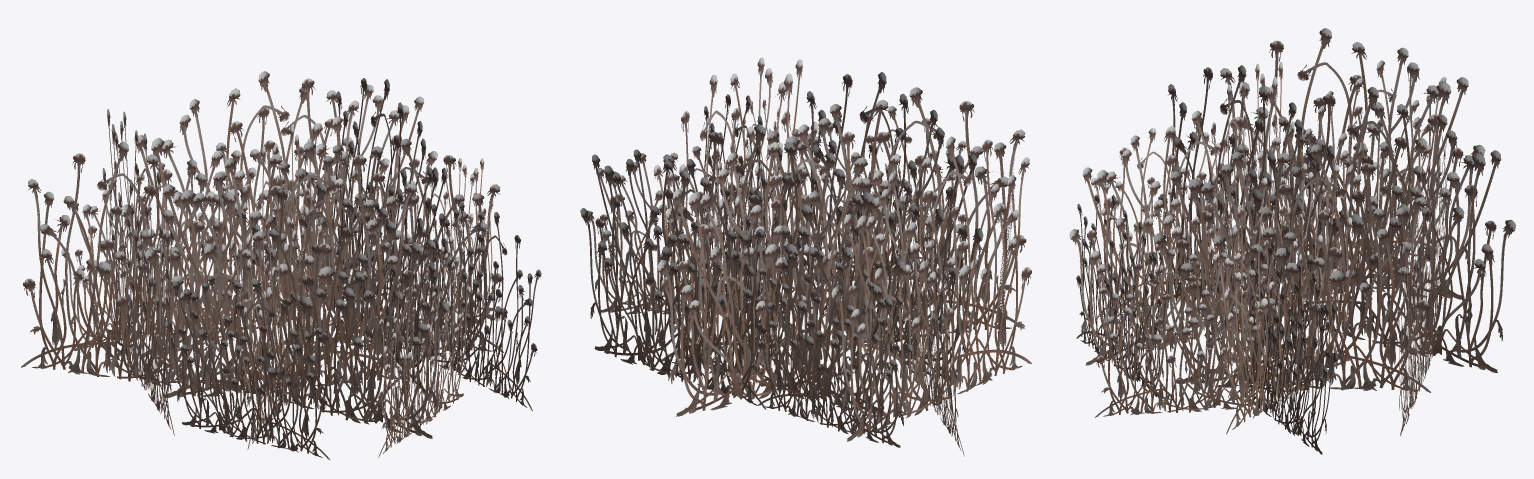
The model's file is Cottony_Weed.fbx.
3 views of the same model, side by side, from view 1: azimuth 30°, elevation 25°; view 2: azimuth 150°, elevation 25°; view 3: azimuth 270°, elevation 25° (orthographic). The views are drawn at different scales.
Visible parts, largest first — view 1: Cottony_Weed; view 2: Cottony_Weed; view 3: Cottony_Weed.
Part boxes in pixels (bbox=[...]): Cottony_Weed: bbox=[21, 71, 541, 459]; Cottony_Weed: bbox=[580, 57, 1031, 456]; Cottony_Weed: bbox=[1069, 28, 1515, 454].
Bounding box in the file's own units: 25.89 × 15.01 × 23.52.
